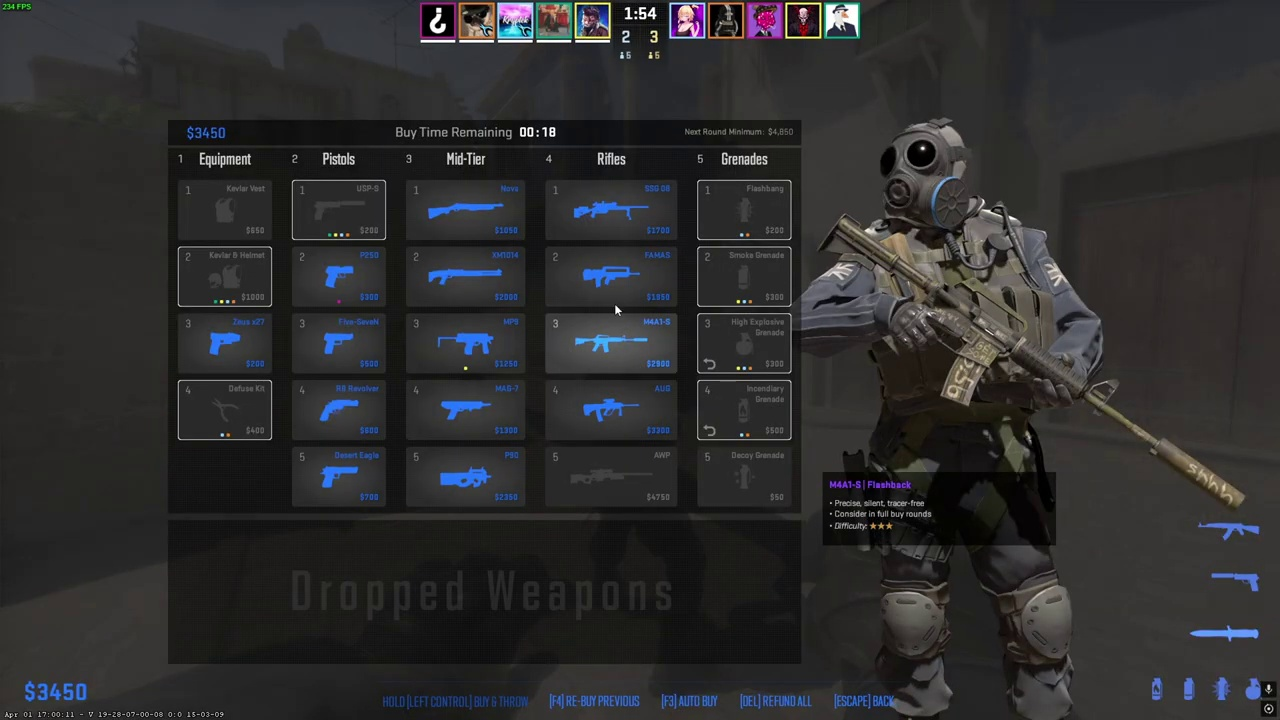CT: (855, 126, 1088, 720)
